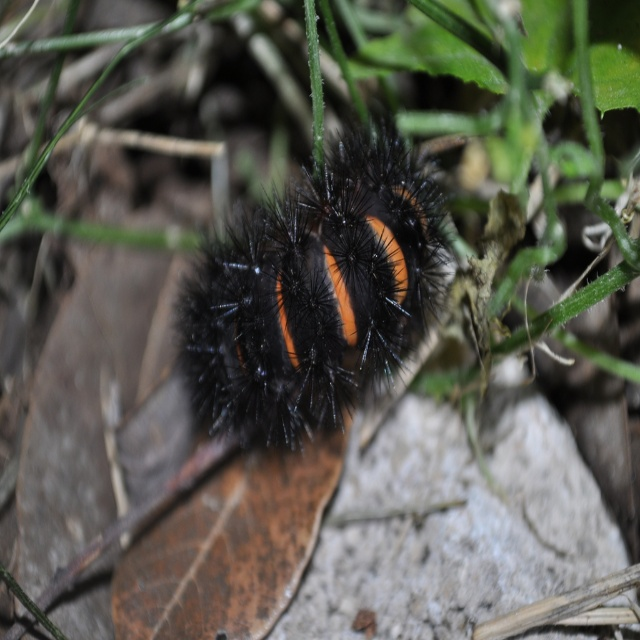Caterpillar: (166, 122, 457, 463)
